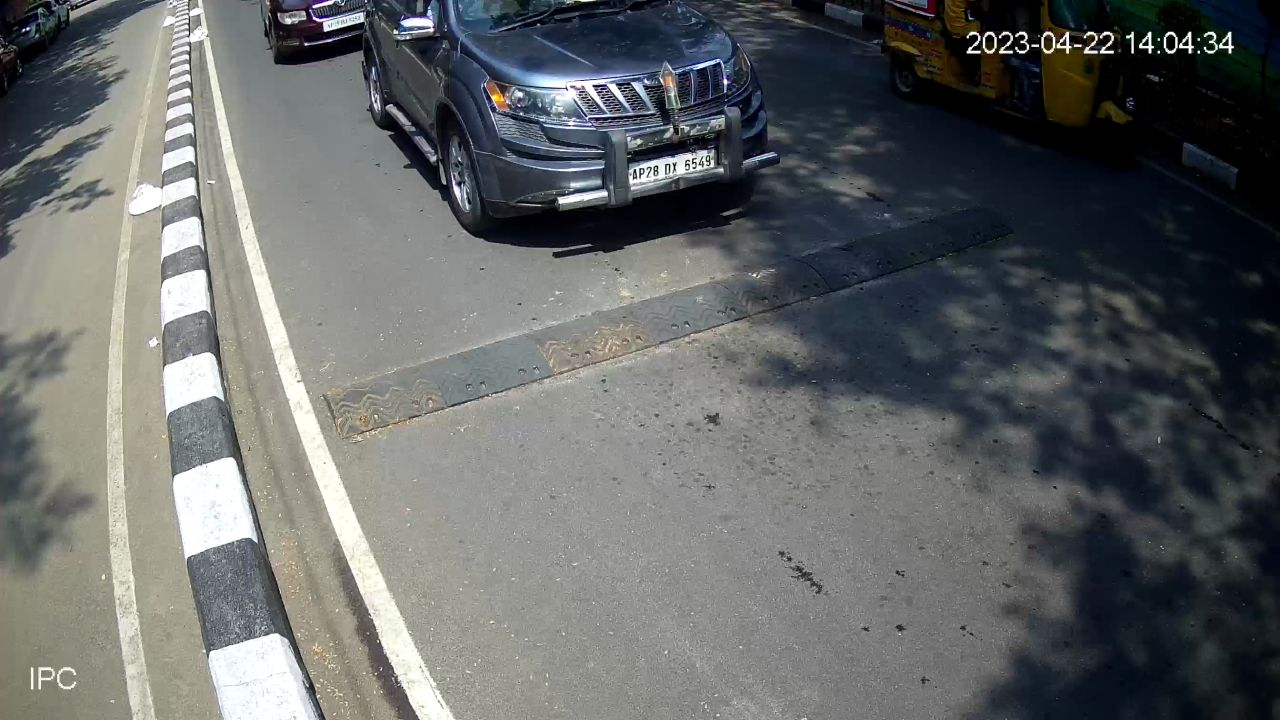license_plate: (623, 137, 721, 194)
